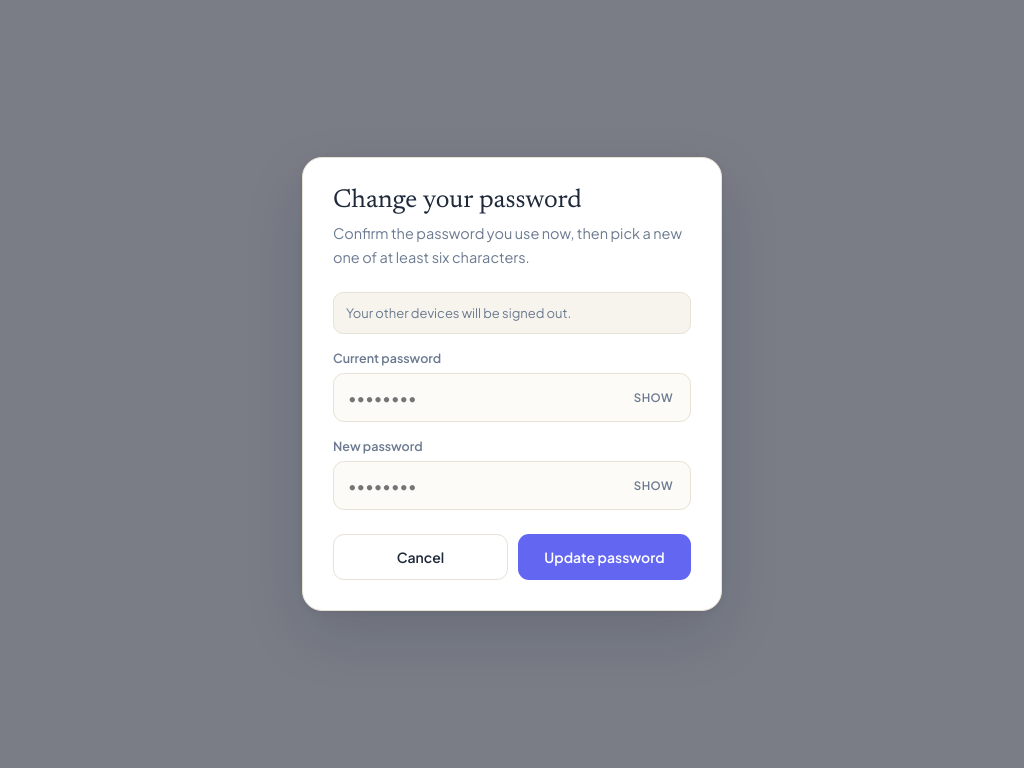
it: a wrong current password › is refused in the reader’s own words
Step 1. Type "wrongpassword" into the password field labelled "Current password" → (512, 398), box [333,373,691,422]
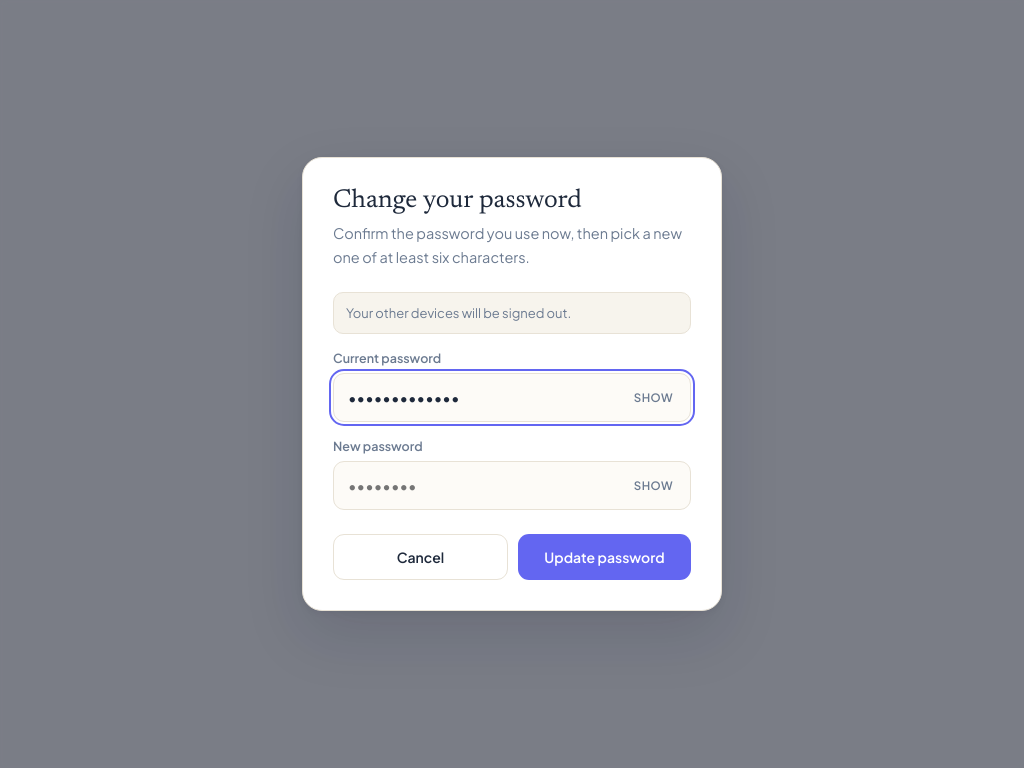
Step 2. Type "newpassword" into the password field labelled "New password" → (512, 486), box [333,461,691,510]
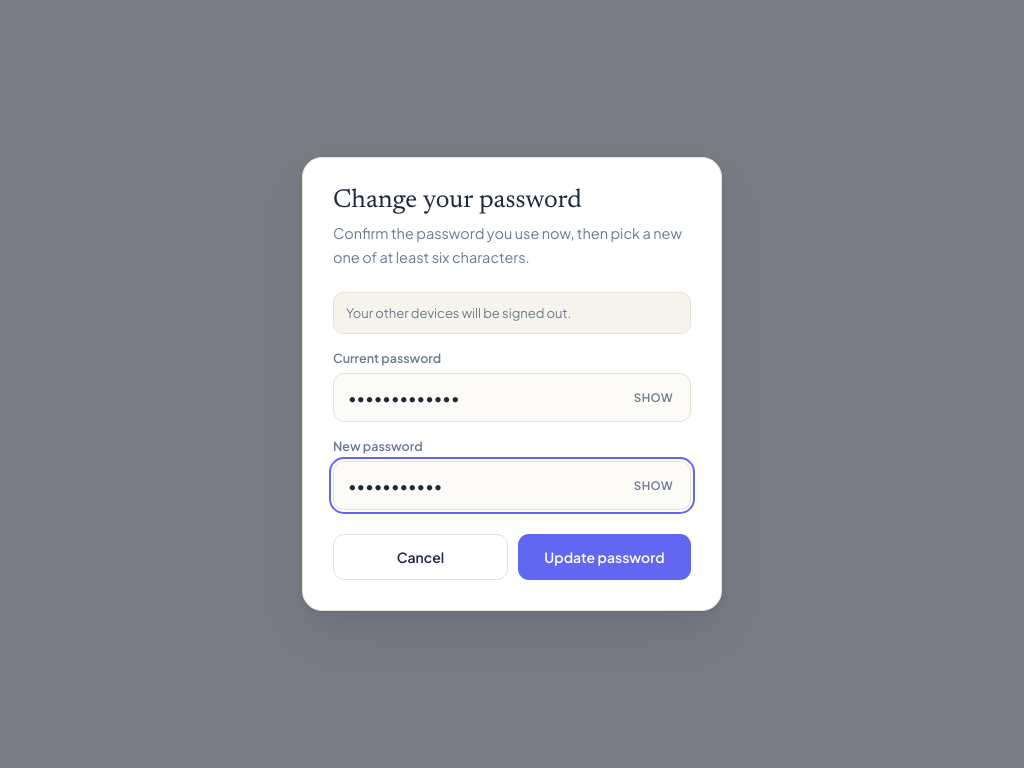
Step 3. Click the button "Update password" → (604, 557), box [518,534,691,580]
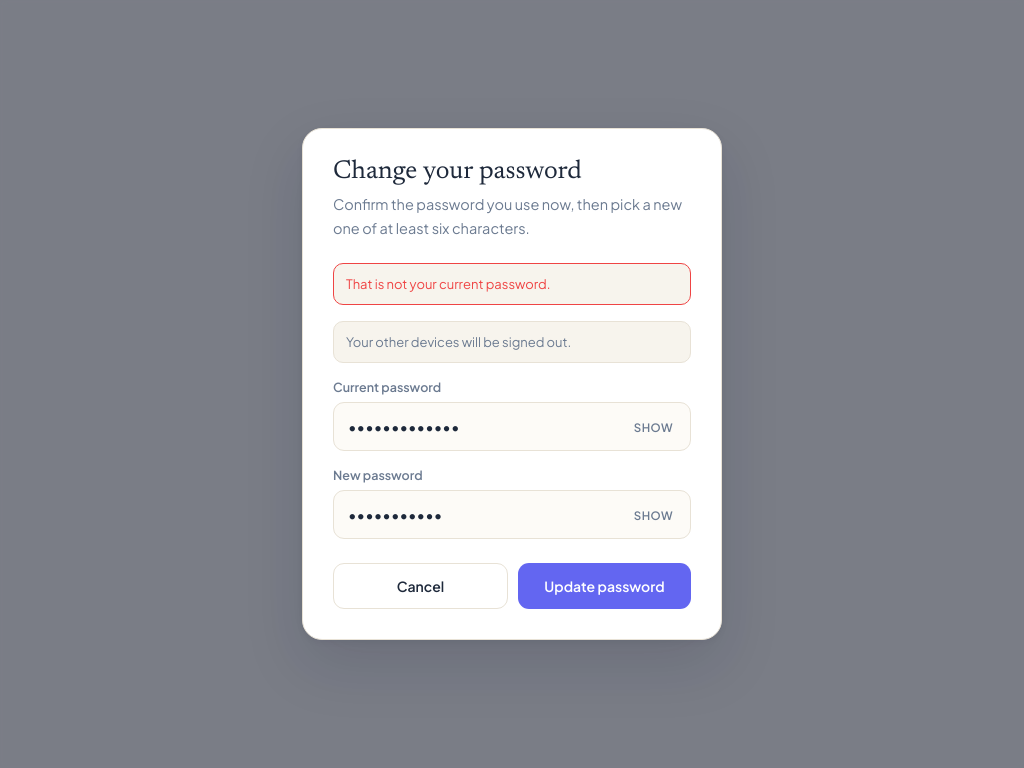
Now the message "That is not your current password." is shown, box [333,263,691,305]
